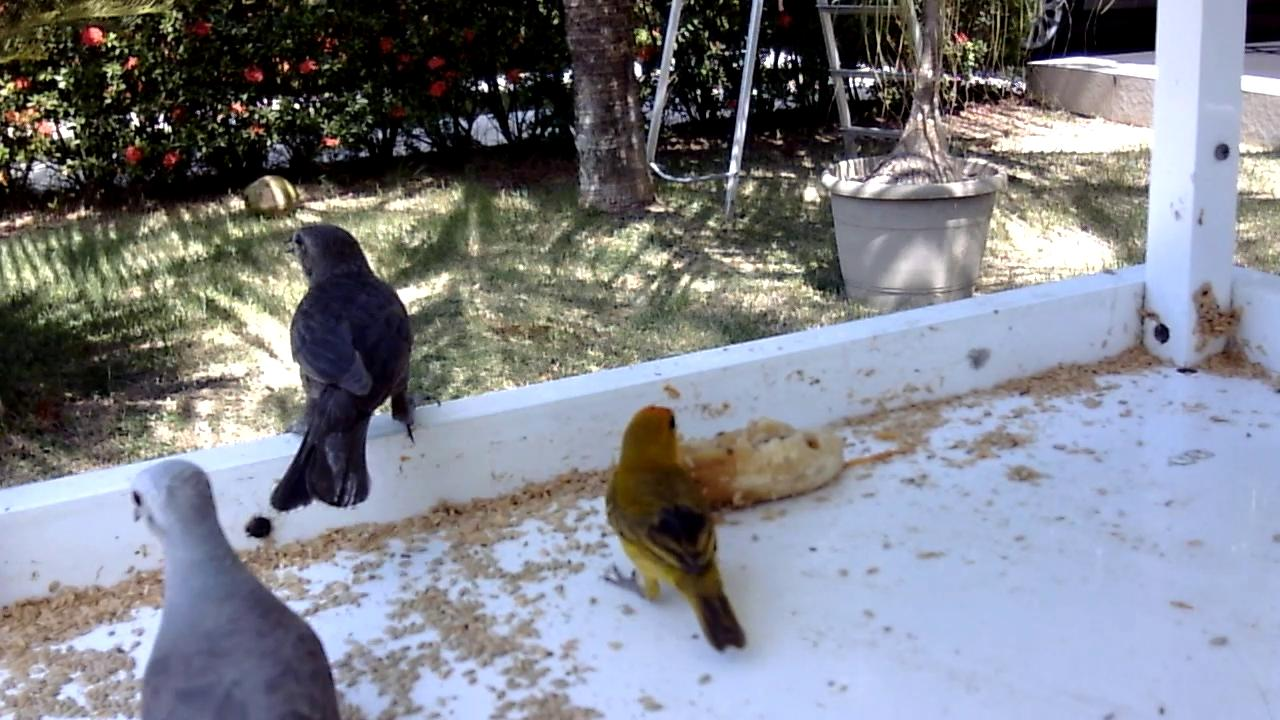canario_do_amazonas: (599, 402, 751, 656)
chupim: (266, 223, 445, 517)
rolinha: (122, 458, 341, 720)
